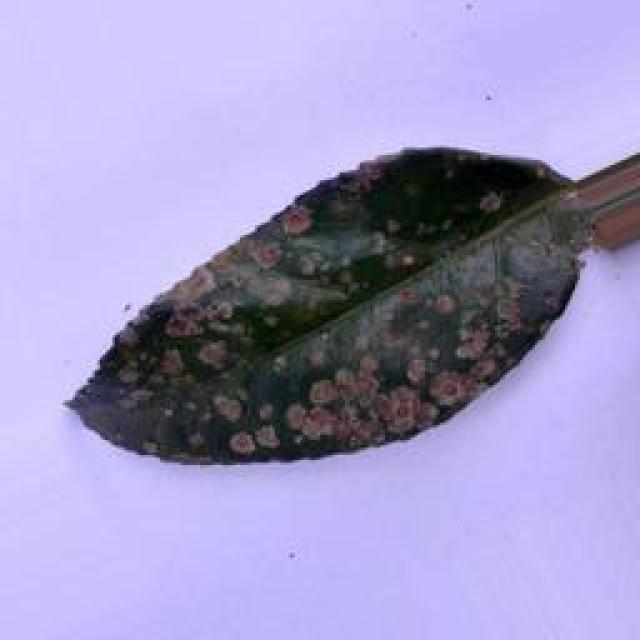Algal Leaf Spot: (66, 137, 591, 470)
